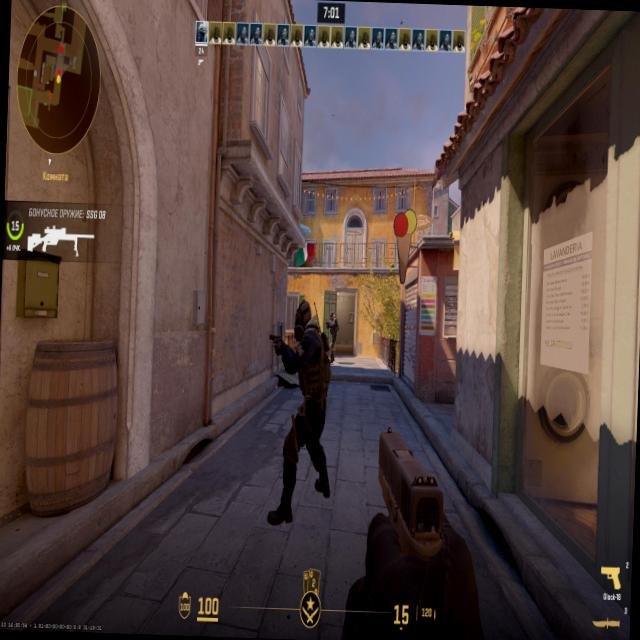CT: (290, 304, 326, 478), (328, 314, 338, 358)
CT_heat: (298, 310, 306, 334), (330, 314, 336, 324)
